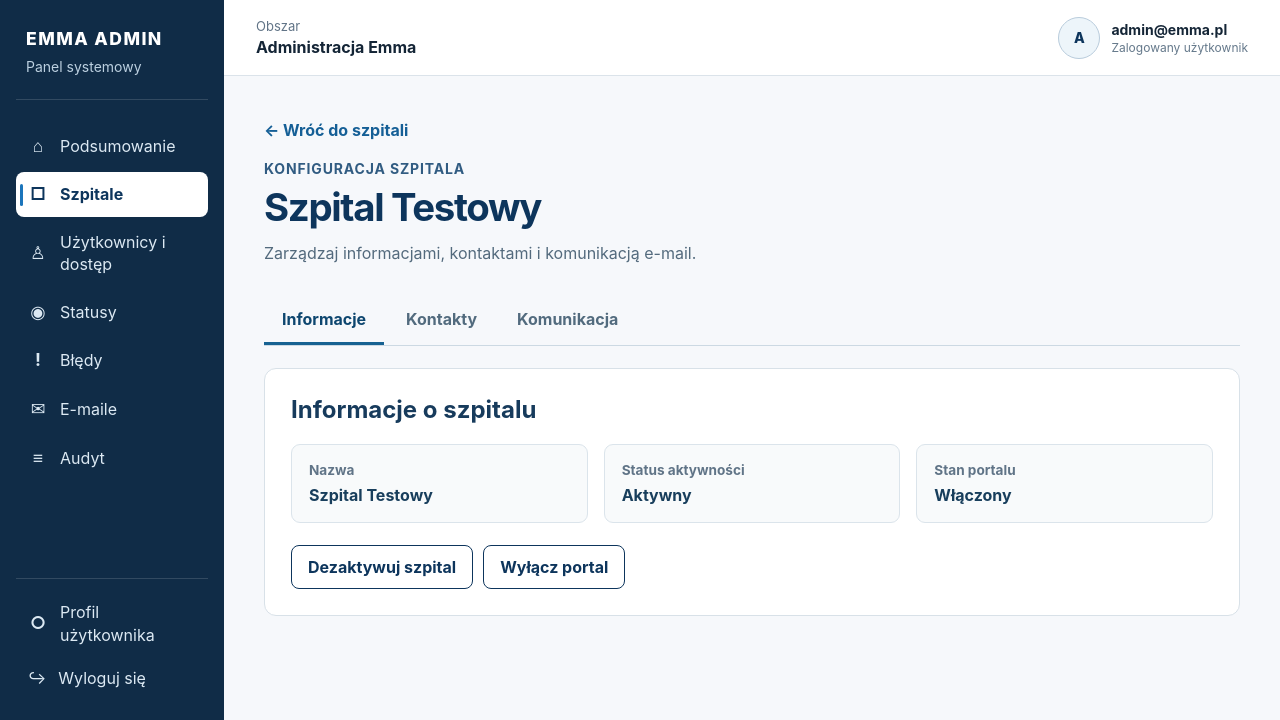
Scenario: Admin hospital details › shows only active contacts in communication selectors and warns without primary
Click the tab "Komunikacja". click: (568,320)
box: [499, 296, 636, 345]
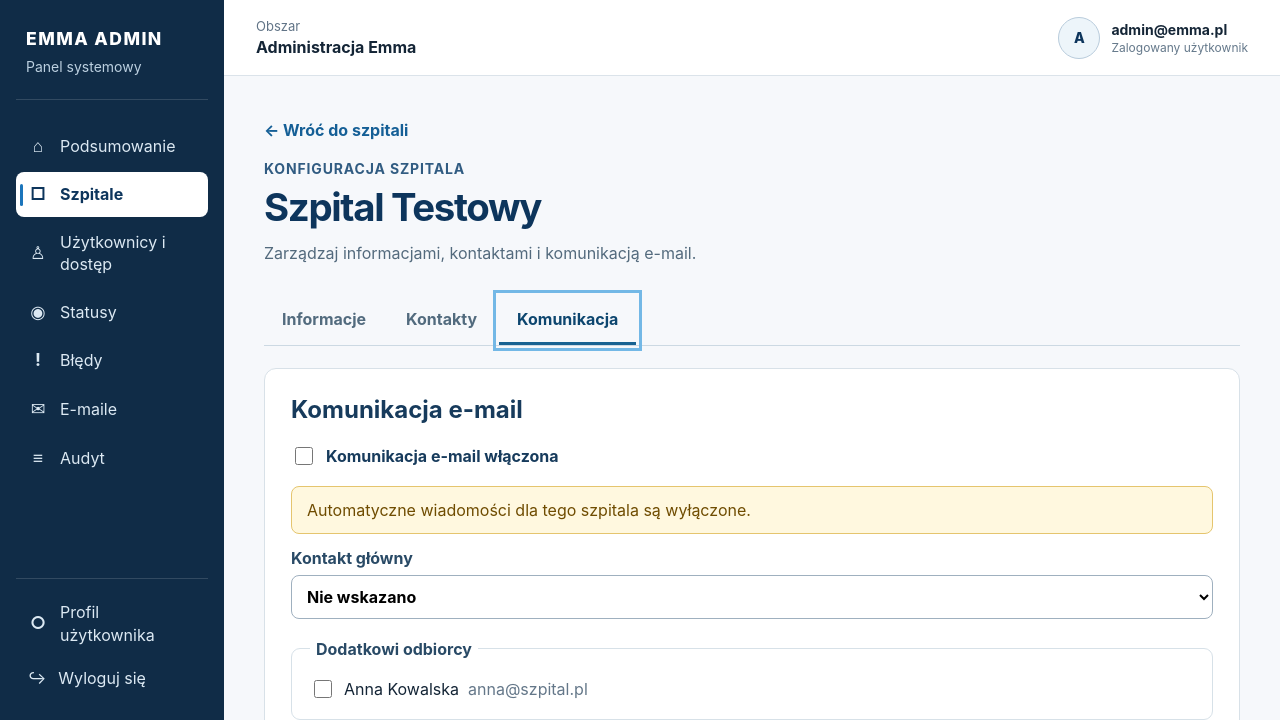
expect the dropdown labelled "Kontakt główny" does not show "Piotr Nieaktywny": met, box [291, 575, 1213, 619]
Click the checkbox labelled "Komunikacja e-mail włączona". click: (304,456)
box: [295, 447, 313, 465]
(page scrolled)
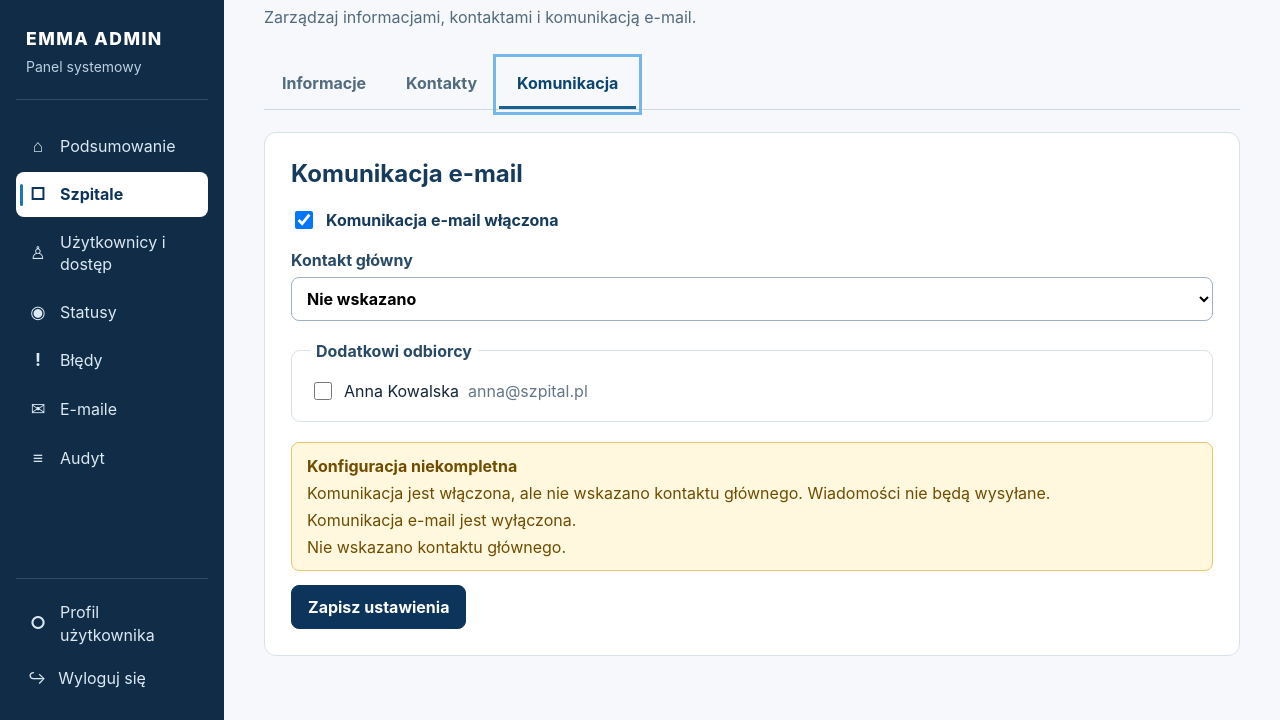
expect the text "Komunikacja jest włączona, ale nie wskazano kontaktu głównego. Wiadomości nie będą wysyłane." is shown: met, box [307, 483, 1050, 503]
